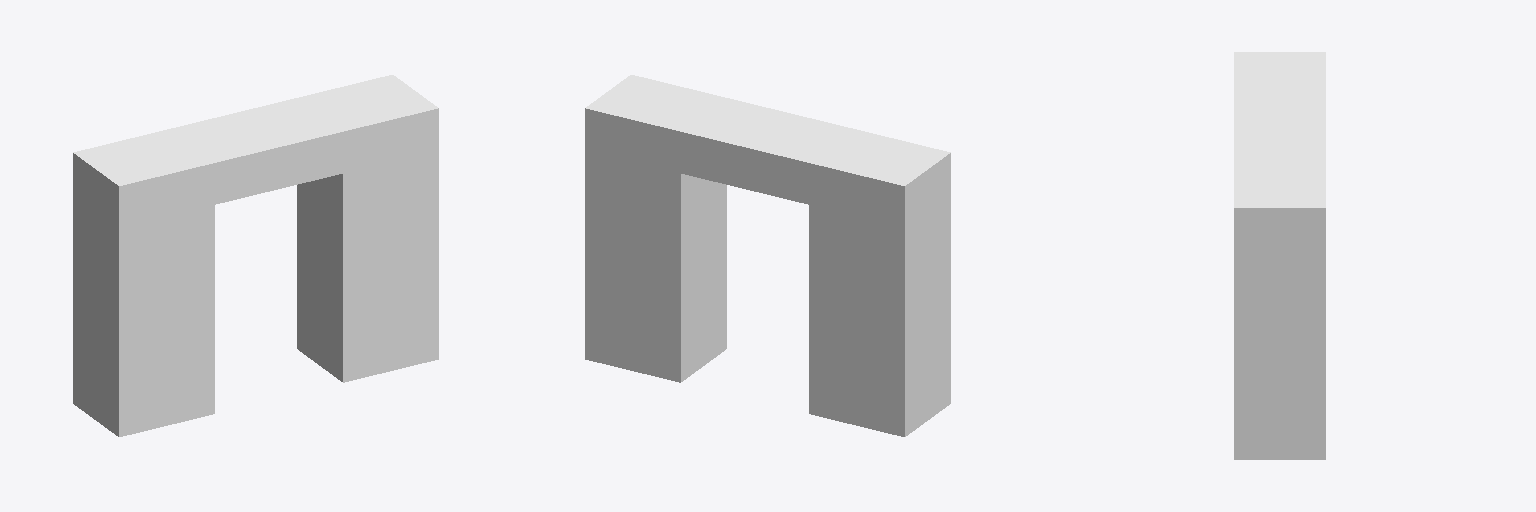
The model's file is Doorframe.obj.
3 views of the same model, side by side, from view 1: azimuth 30°, elevation 25°; view 2: azimuth 150°, elevation 25°; view 3: azimuth 270°, elevation 25° (orthographic).
Bounding box in the file's own units: 40 × 30 × 10.